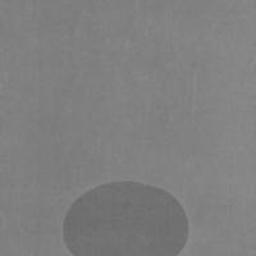Oil spot: (63, 180, 189, 256)
